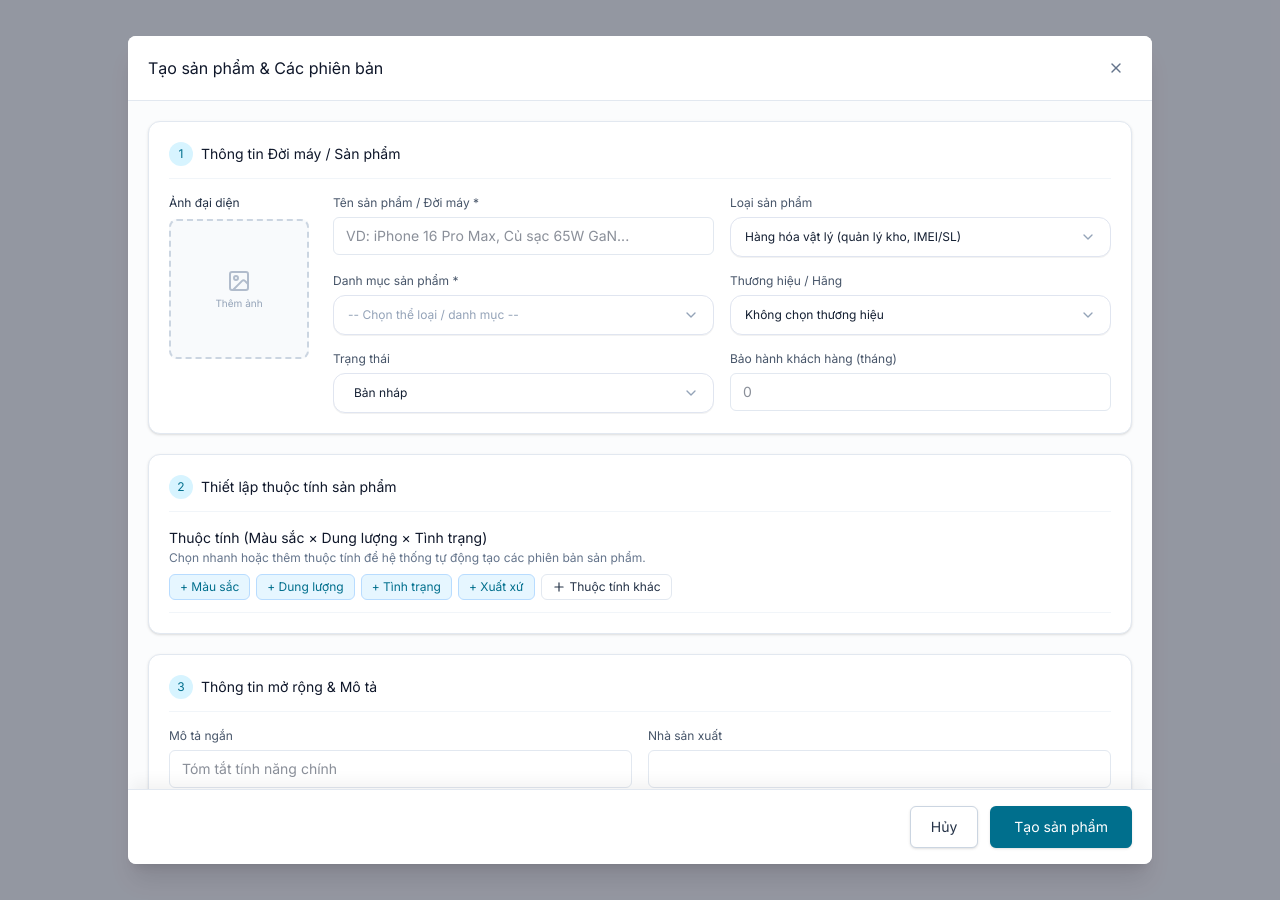
Test: requests a linked supplier partner and selects the newly created brand
Click the button "Không chọn thương hiệu" at (814, 314), box [730,295,1111,335]
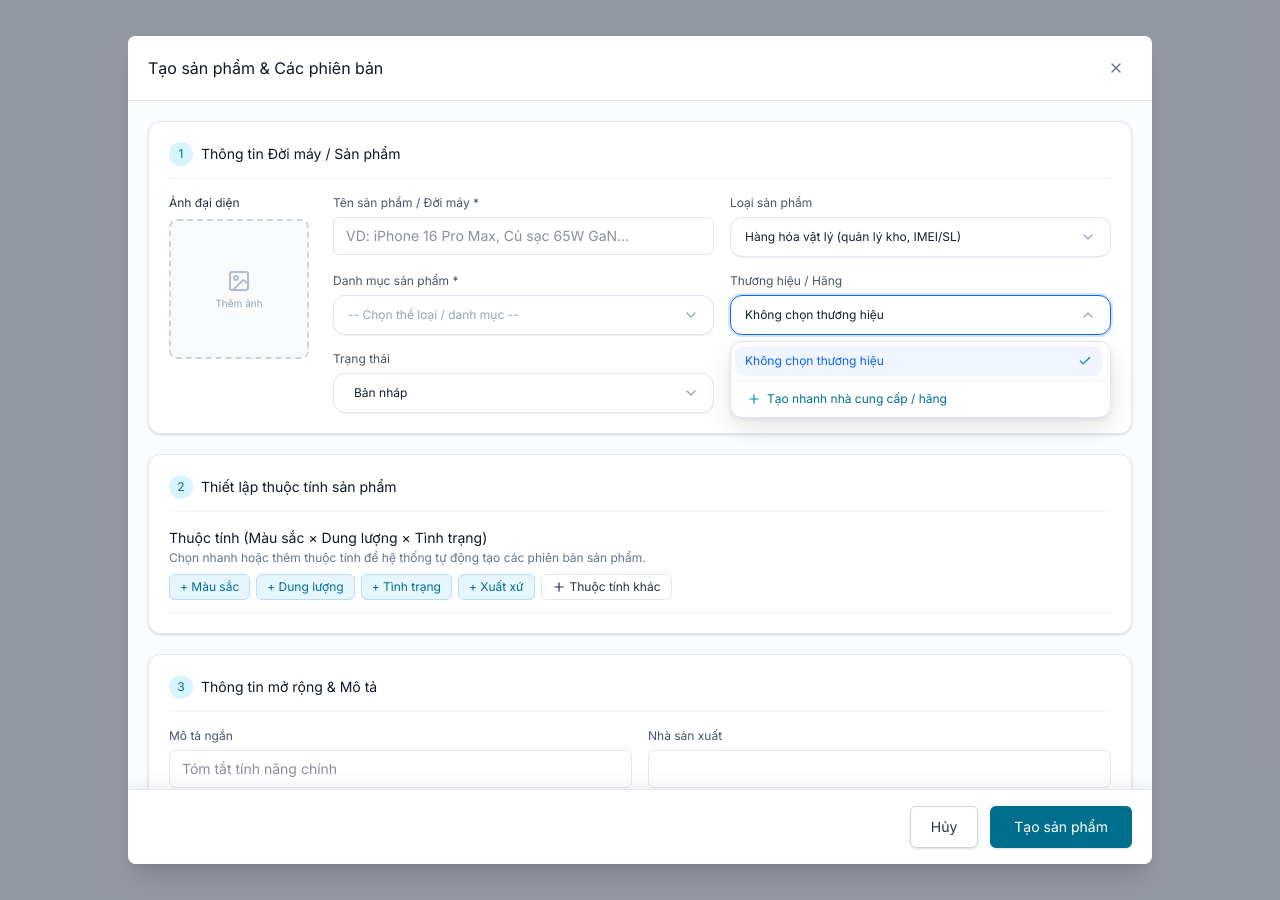
Click the button "Tạo nhanh nhà cung cấp / hãng" at (920, 399), box [737,385,1104,413]
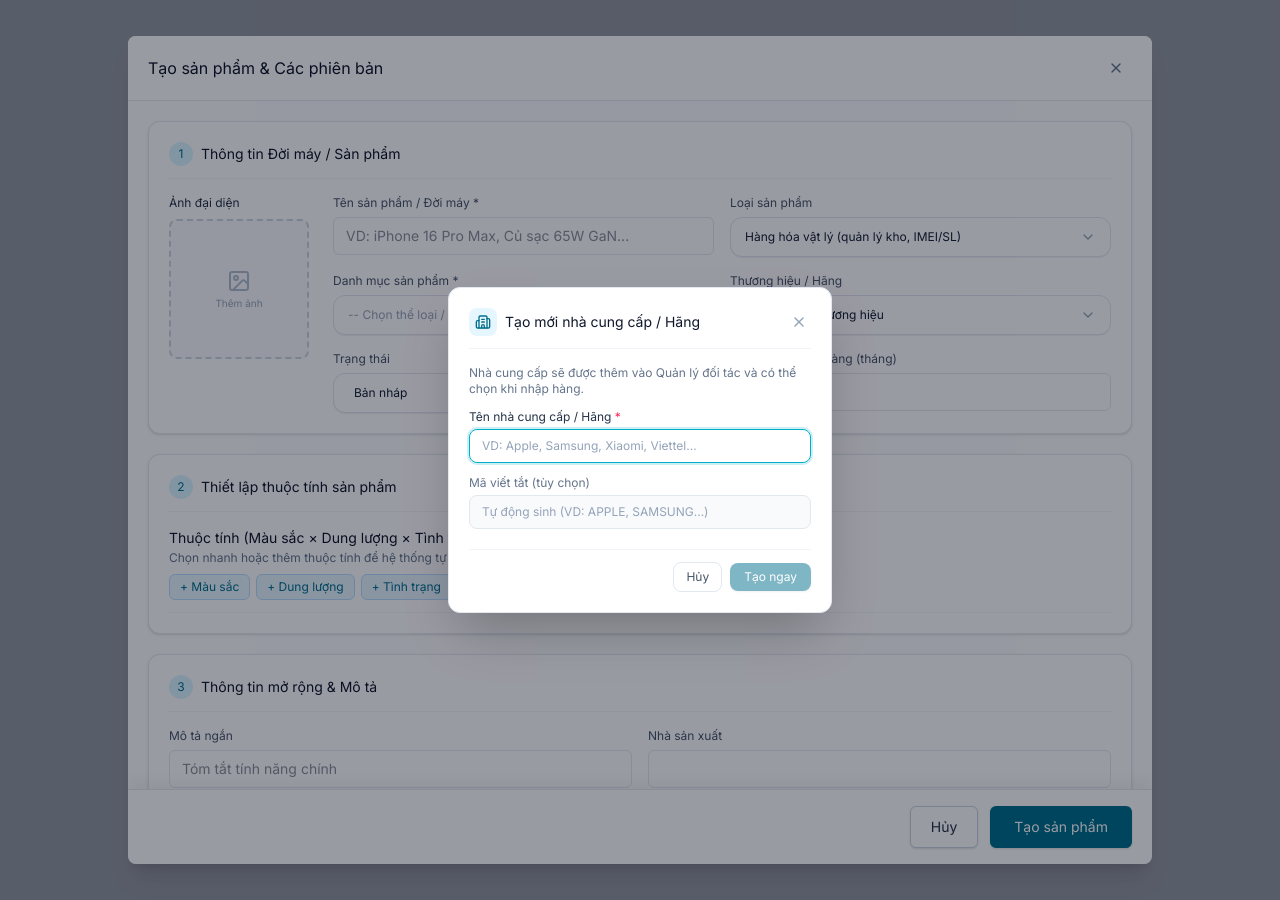
Type "Nguồn hàng An" into the field named "Tên nhà cung cấp / Hãng" at (640, 446), box [469,429,811,463]
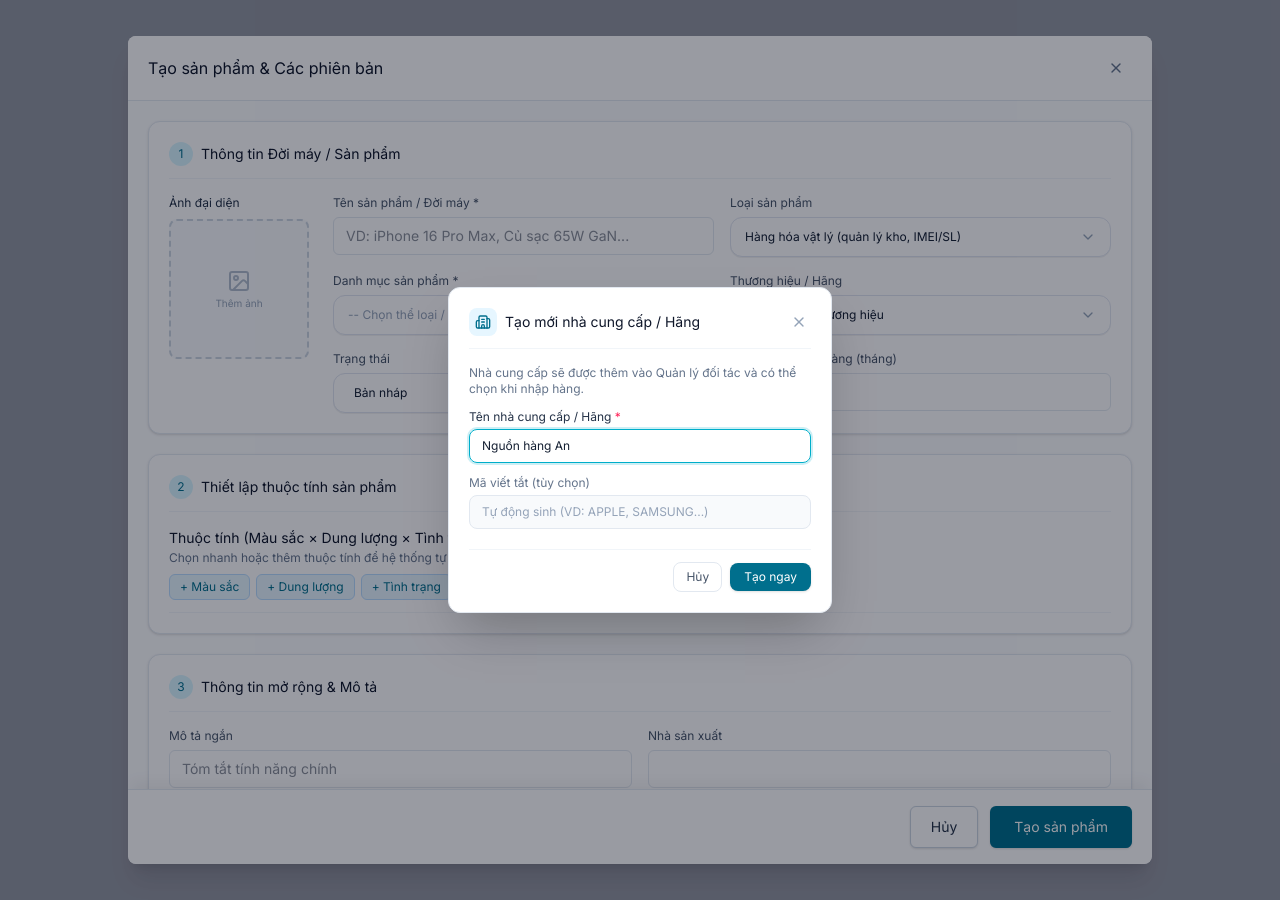
Click the button "Tạo ngay" at (771, 577), box [730,563,811,591]
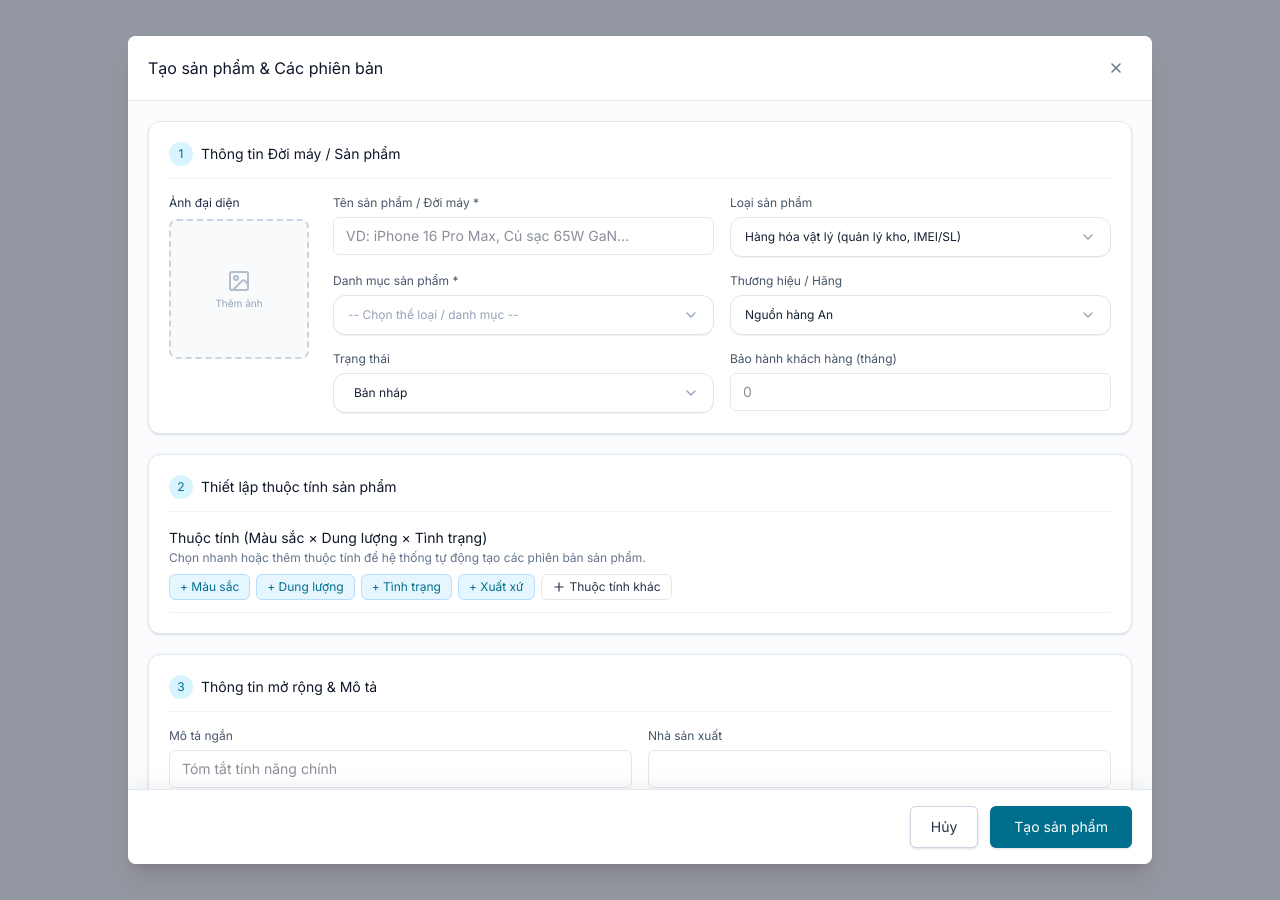
Check: the button "Nguồn hàng An" is shown, box [730,295,1111,335]
